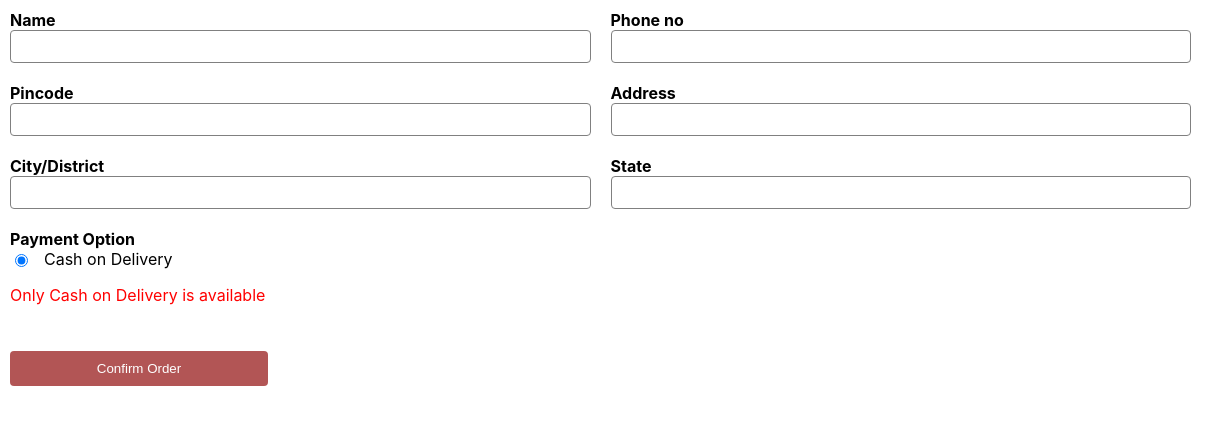
Test: PlacingOrderForm › displays error message if form fields are not filled
Click the button "Confirm Order". click: point(139, 368)
box: [10,351,268,386]
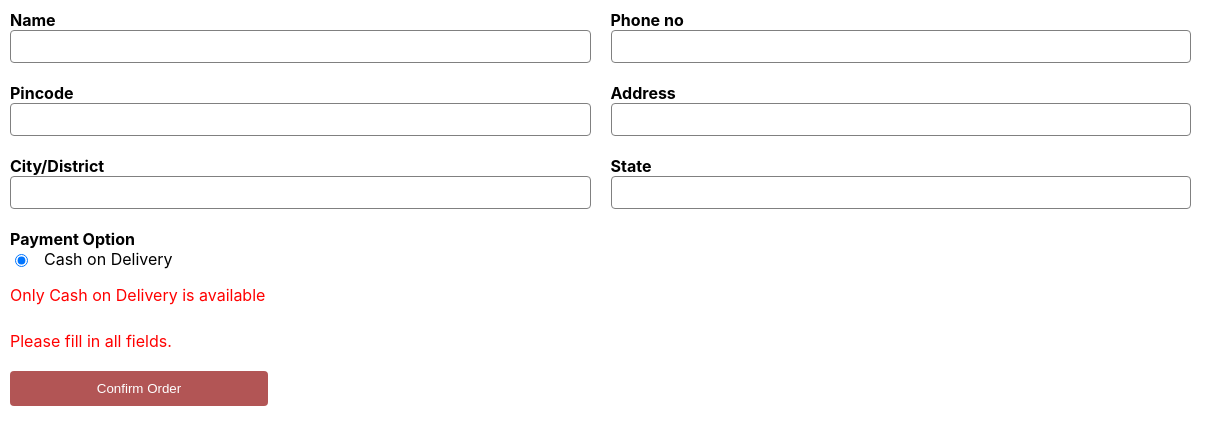
Check: the text "Please fill in all fields." is shown, box [10,331,172,351]
